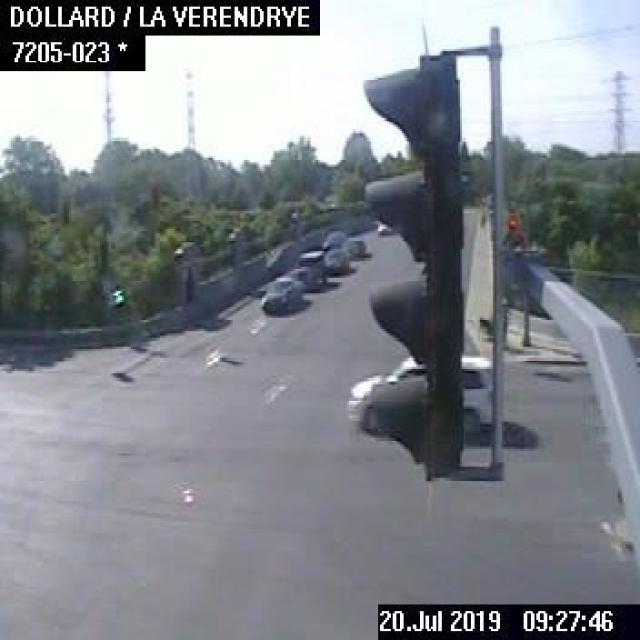vehicle: (345, 356, 501, 436), (258, 280, 304, 314), (292, 248, 327, 290), (322, 247, 348, 275), (320, 229, 348, 251), (343, 238, 367, 260), (376, 220, 391, 233)
